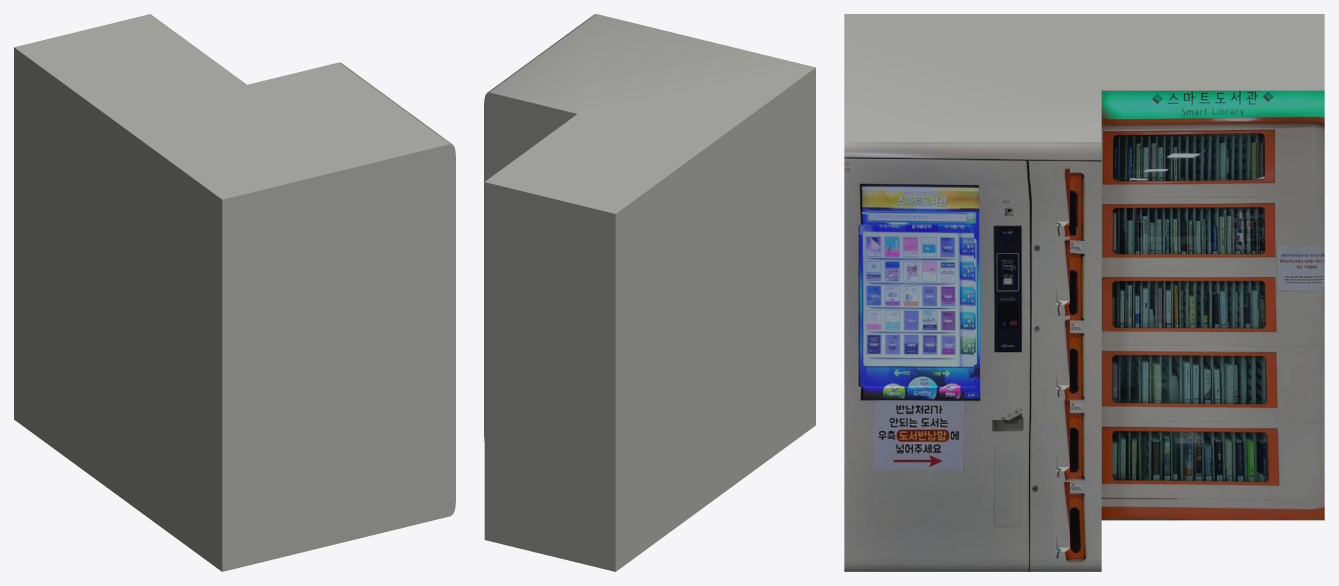
The model's file is BookChest.fbx.
3 views of the same model, side by side, from view 1: azimuth 30°, elevation 25°; view 2: azimuth 150°, elevation 25°; view 3: azimuth 270°, elevation 25° (orthographic). The views are drawn at different scales.
Parts seen in each view (by area): view 1: 도서 자판기; view 2: 도서 자판기; view 3: 도서 자판기.
Boxes of the visible parts, x1,y1,x2,y2 form: 도서 자판기: (14,14,455,571); 도서 자판기: (484,14,815,571); 도서 자판기: (844,14,1324,571).
Size of the model in its own units: 1.05 by 1.6 by 1.62.
Materials: 1 (1 with a texture image).
